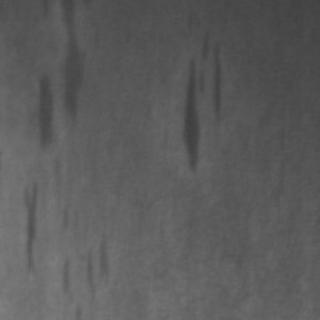inclusion: (175, 32, 229, 174), (54, 0, 94, 134), (54, 226, 114, 306), (10, 174, 42, 278), (24, 68, 58, 150)
